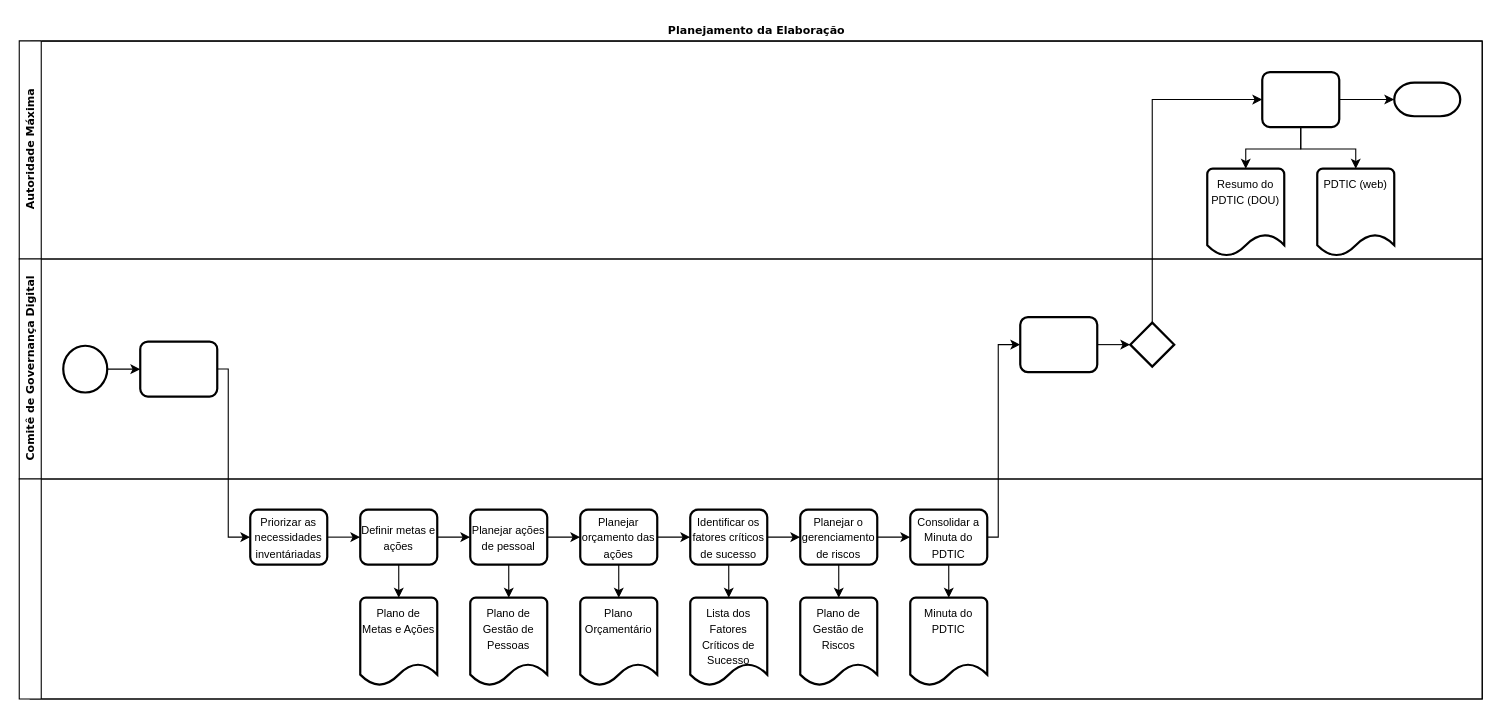
The diagram is 1502 pixels wide and 718 high, and some of its shapes have lost their labels. Each missing label, with the centre of its shape:
Aprovar a Minuta do PDTIC: the point at 1058,344
Atualizar critérios de priorização: the point at 178,368
EqEPDTIC: the point at 750,588
Fim: the point at 1427,99
Início: the point at 85,368
Publicar a Minuta do PDTIC: the point at 1300,99
